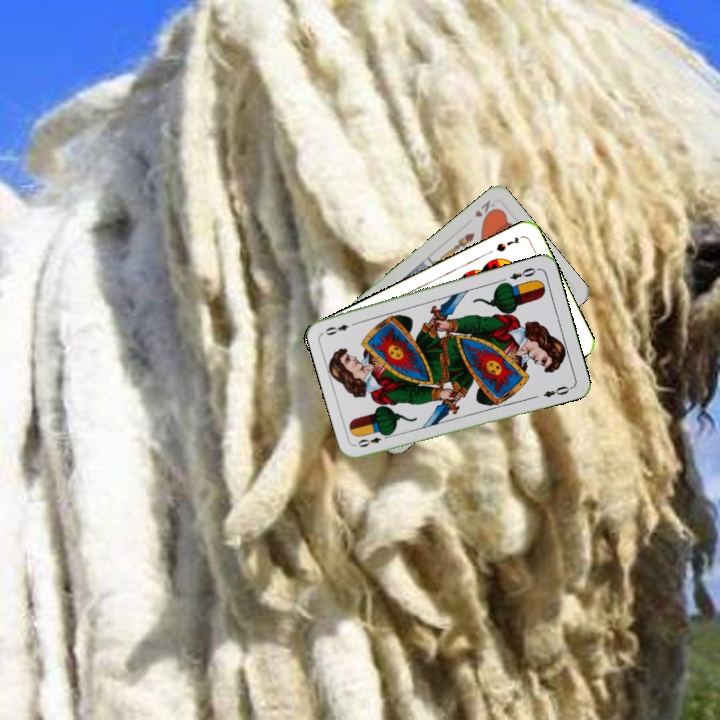EO: (354, 429, 393, 450), (506, 264, 538, 282)
HK: (470, 196, 501, 223)
S7: (492, 233, 522, 254)
